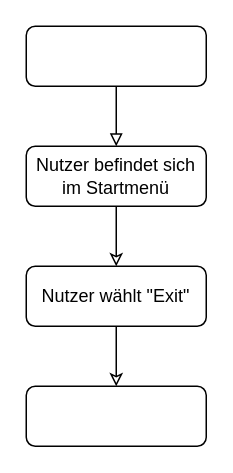
Image size: 233x473. Some labels were removed from this diagram. Here are the shapes that lost their labels. From the top down, the box of each, then its label:
(25, 25, 206, 86): Nutzer startet die App
(25, 385, 206, 446): App erfolgreich beendet
